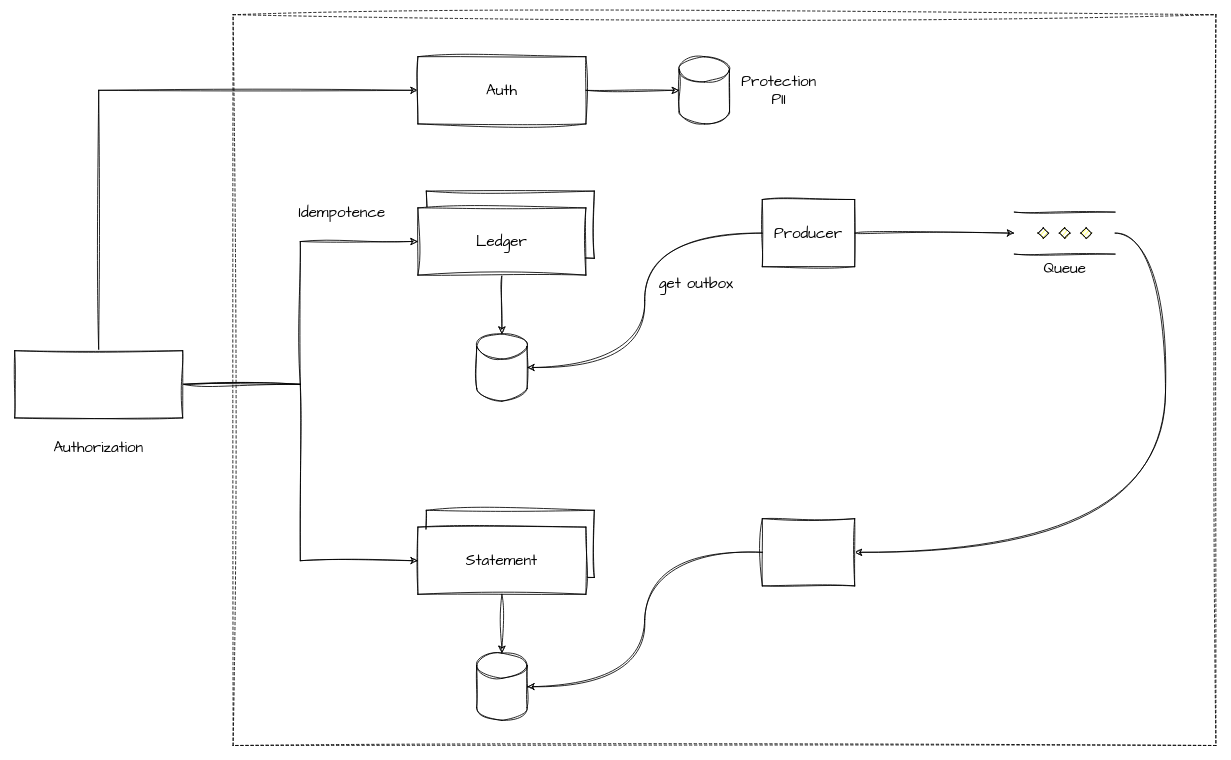
Some shapes in this 1231 by 760 pixel diagram are drawn without their labels. The shapes that lost their labels are listed below. From the top down, each one's centre as x and y in pixels, then its label:
At (x=98, y=384): "Gateway/Proxy".
At (x=808, y=552): "Consumer".
